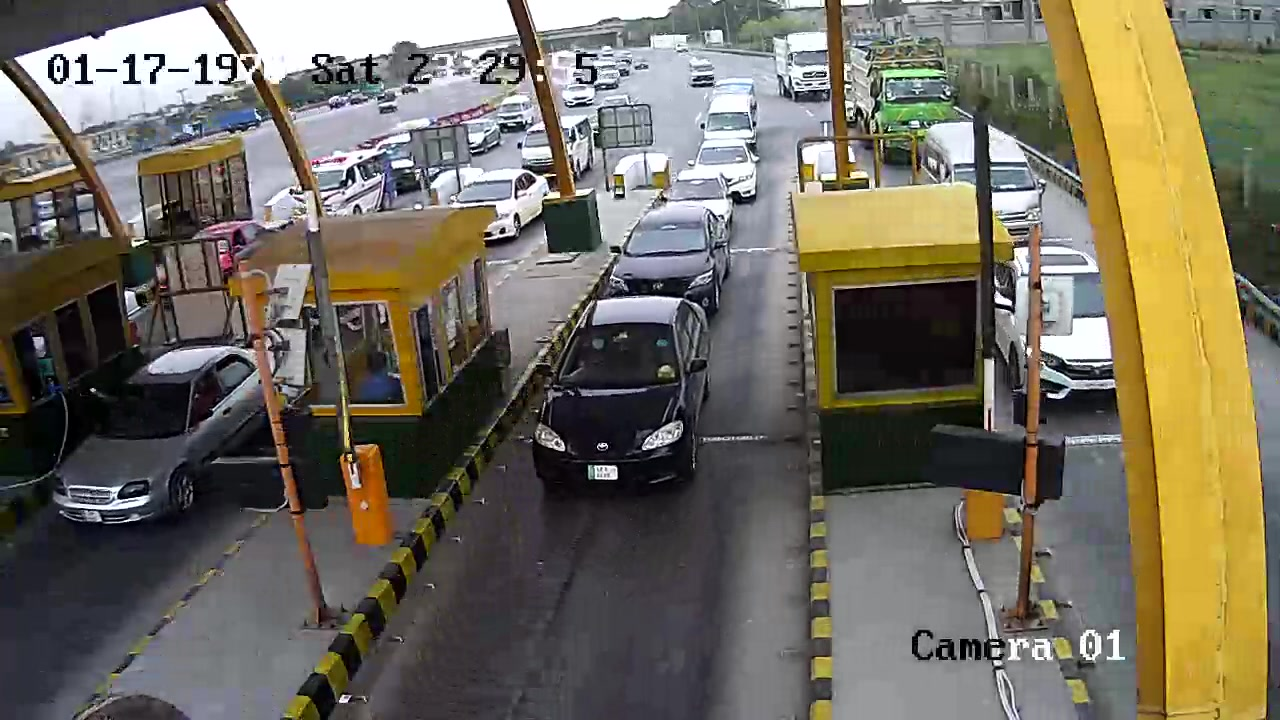F1: (507, 292, 721, 495)
